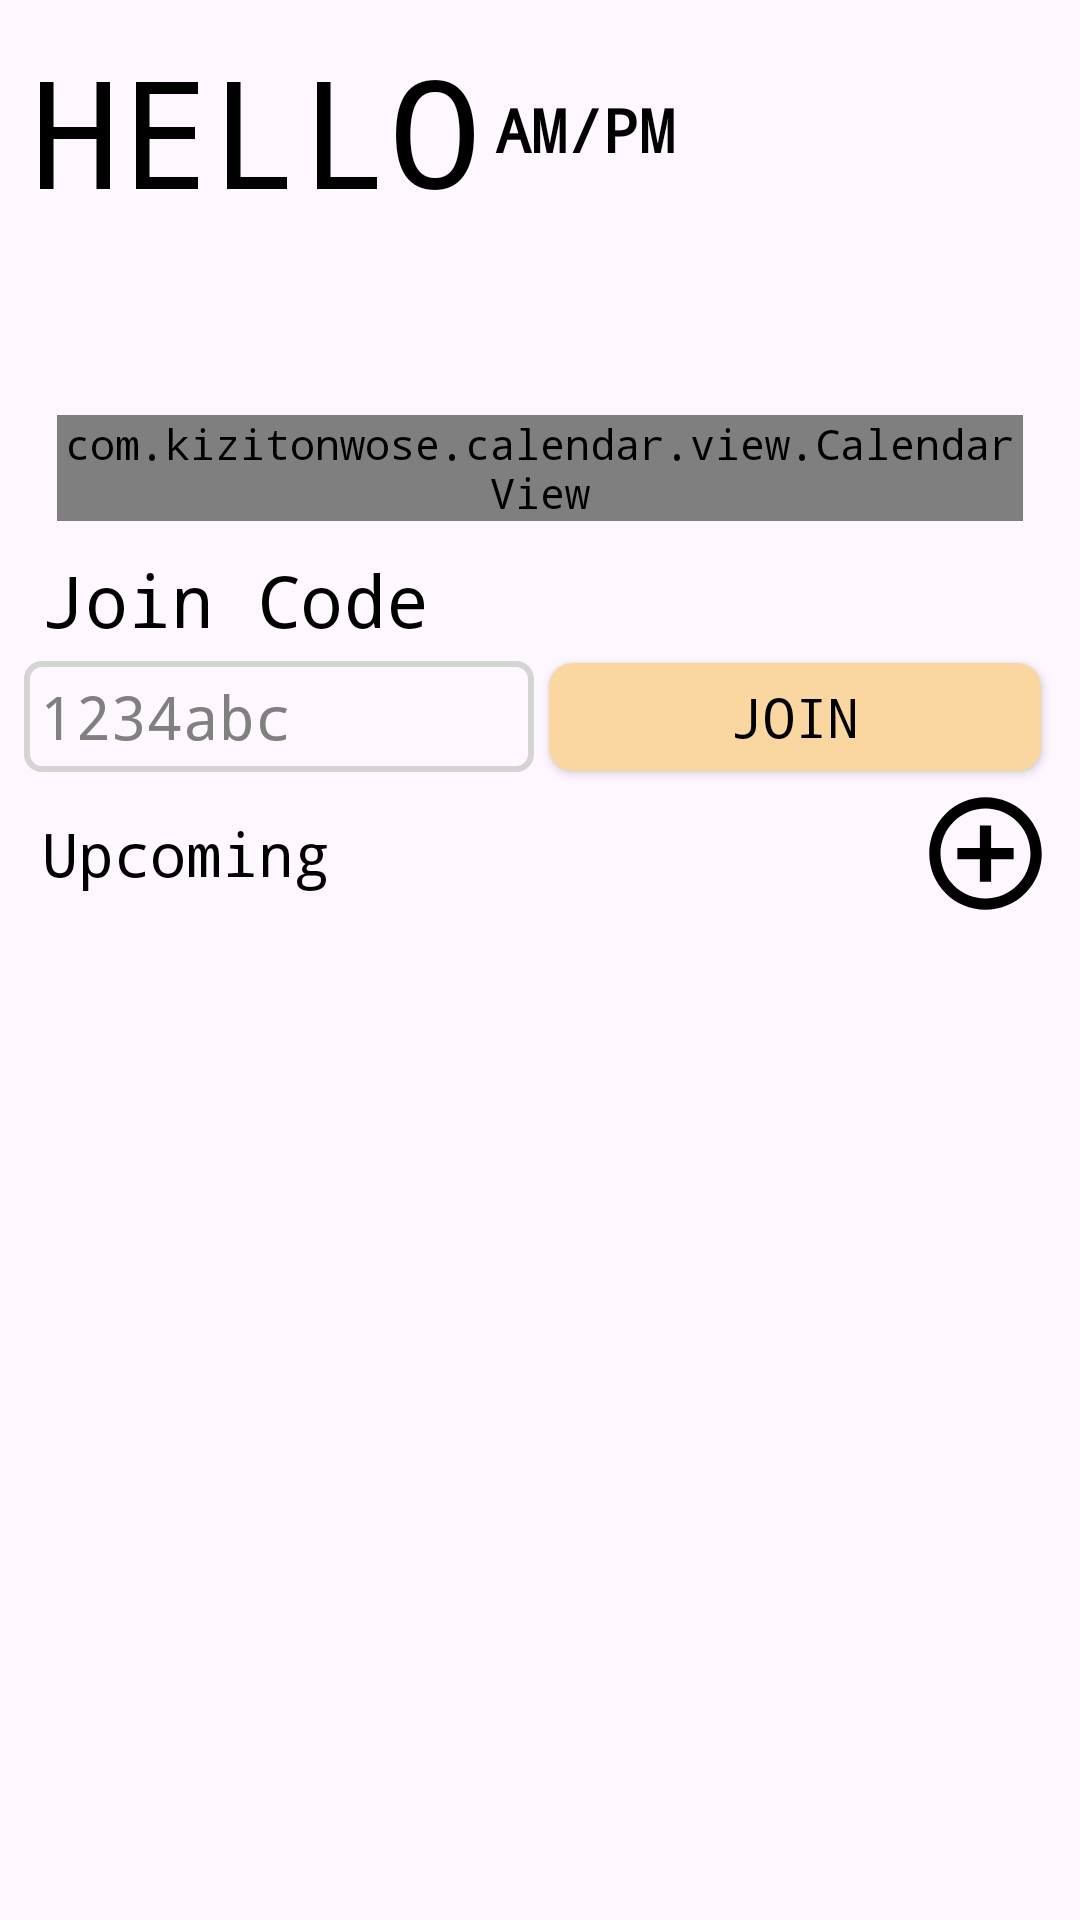

Icon bounding boxes for this 1080px×1920px phone screenshot, format (x1, y1, x2, y2):
button to add events: (929, 797, 1042, 910)
